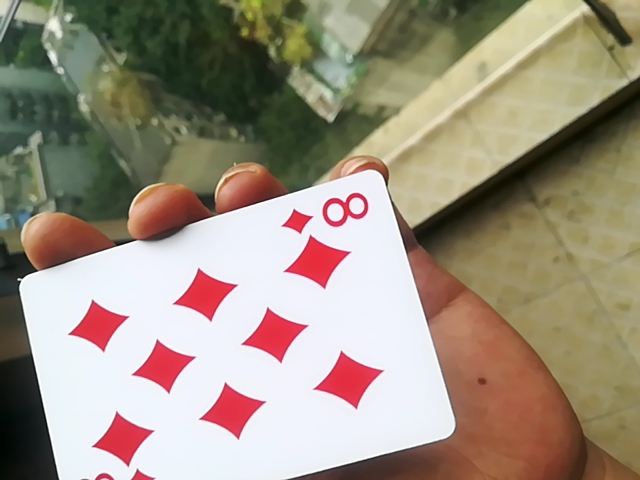fk 8: (18, 168, 457, 478)
